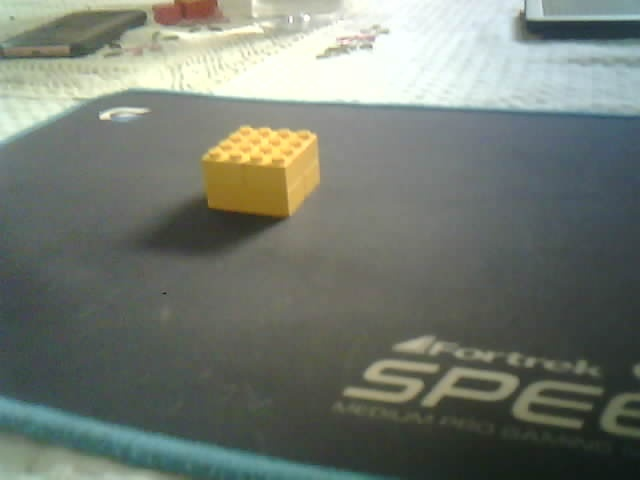lego: (201, 124, 320, 219), (149, 2, 184, 26), (175, 1, 219, 20)
